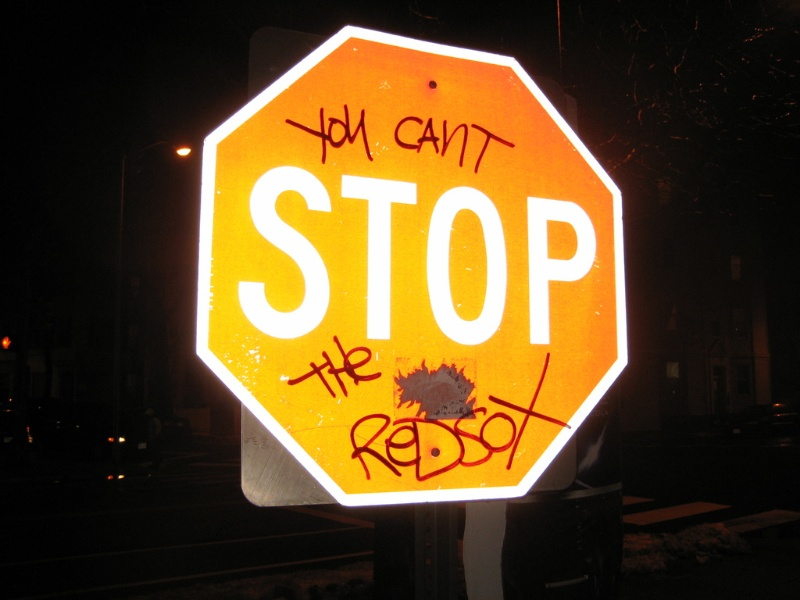stop: (193, 13, 632, 514)
